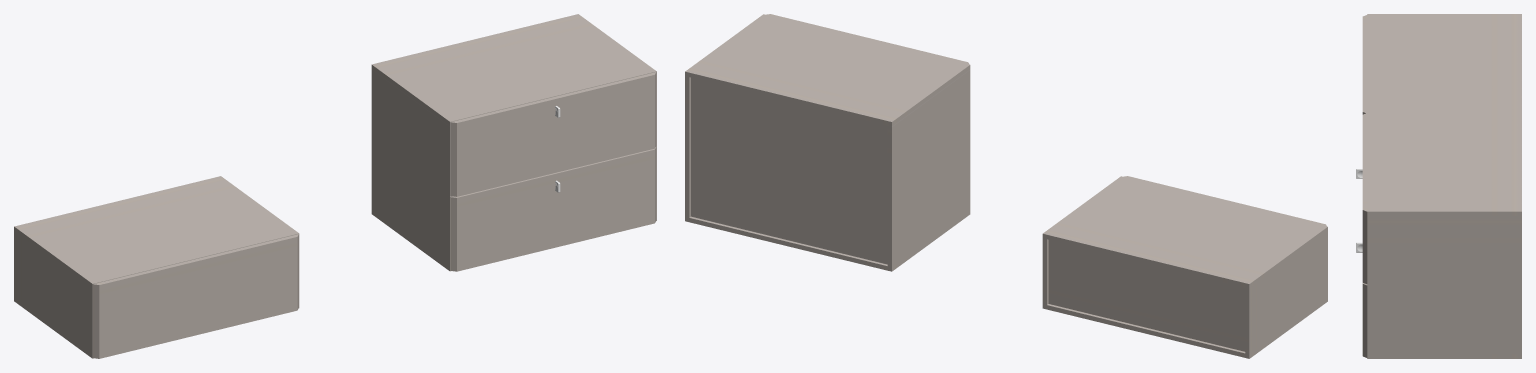
3 views of the same model, side by side, from view 1: azimuth 30°, elevation 25°; view 2: azimuth 150°, elevation 25°; view 3: azimuth 270°, elevation 25° (orthographic).
Visible parts, largest first — view 1: Object_99, Object_125; view 2: Object_99, Object_125; view 3: Object_99, Object_125.
Part boxes in pixels (x1,y1,x2,y2): Object_99: (371, 14, 656, 271); Object_125: (14, 176, 299, 358); Object_99: (685, 14, 970, 271); Object_125: (1042, 176, 1327, 358); Object_99: (1362, 112, 1521, 358); Object_125: (1362, 14, 1521, 114).
Size of the model in its own units: 2.37 by 0.6 by 0.6121.
2 materials, 1 textured.
